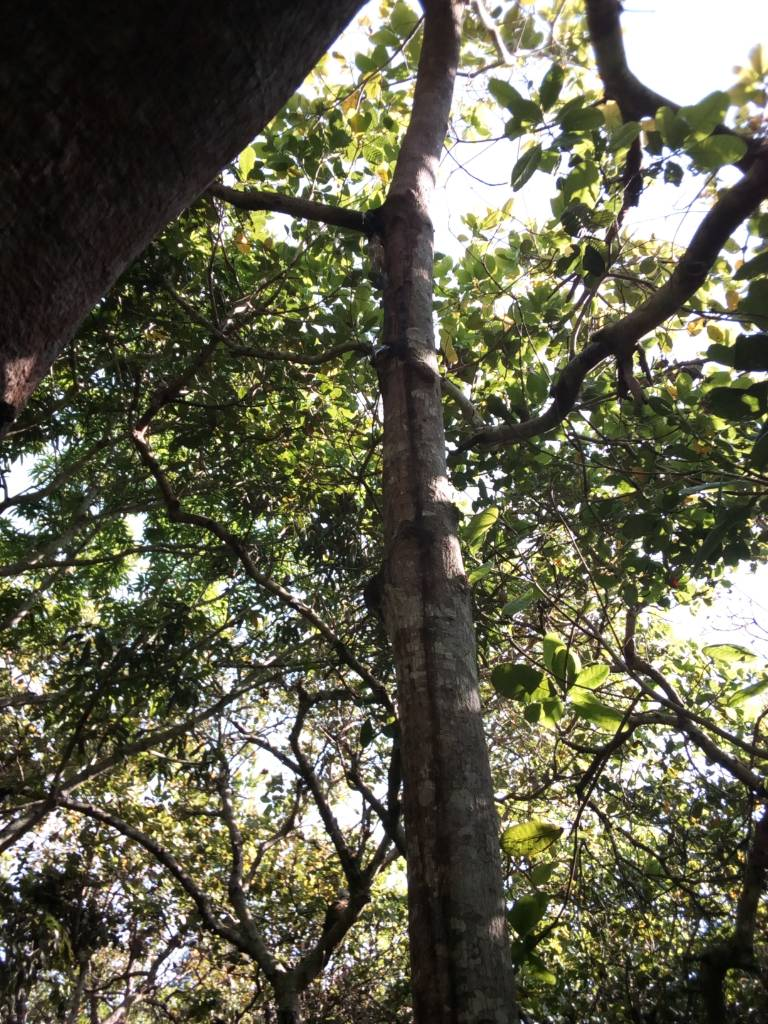Termites: (396, 197, 468, 1019)
